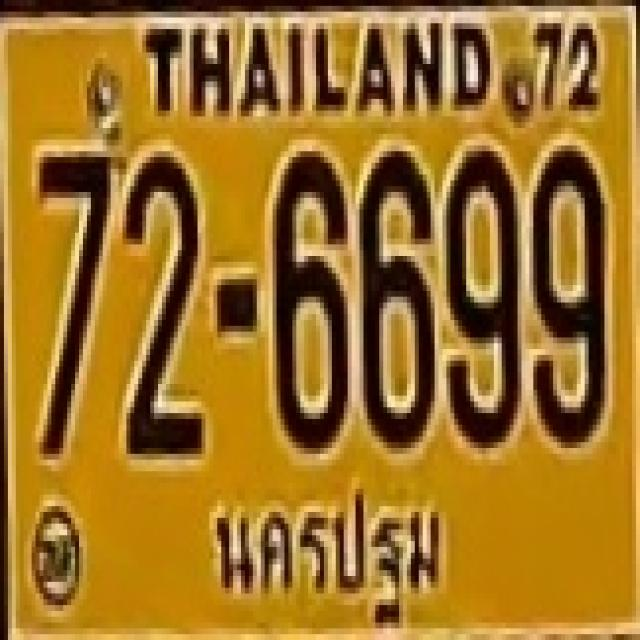0: (442, 146, 518, 442)
2: (119, 148, 198, 440), (122, 160, 198, 451)
6: (356, 146, 430, 442), (272, 148, 344, 445)
7: (36, 151, 110, 448)
9: (442, 146, 518, 442), (530, 146, 600, 442)
NPT: (206, 480, 441, 627)
